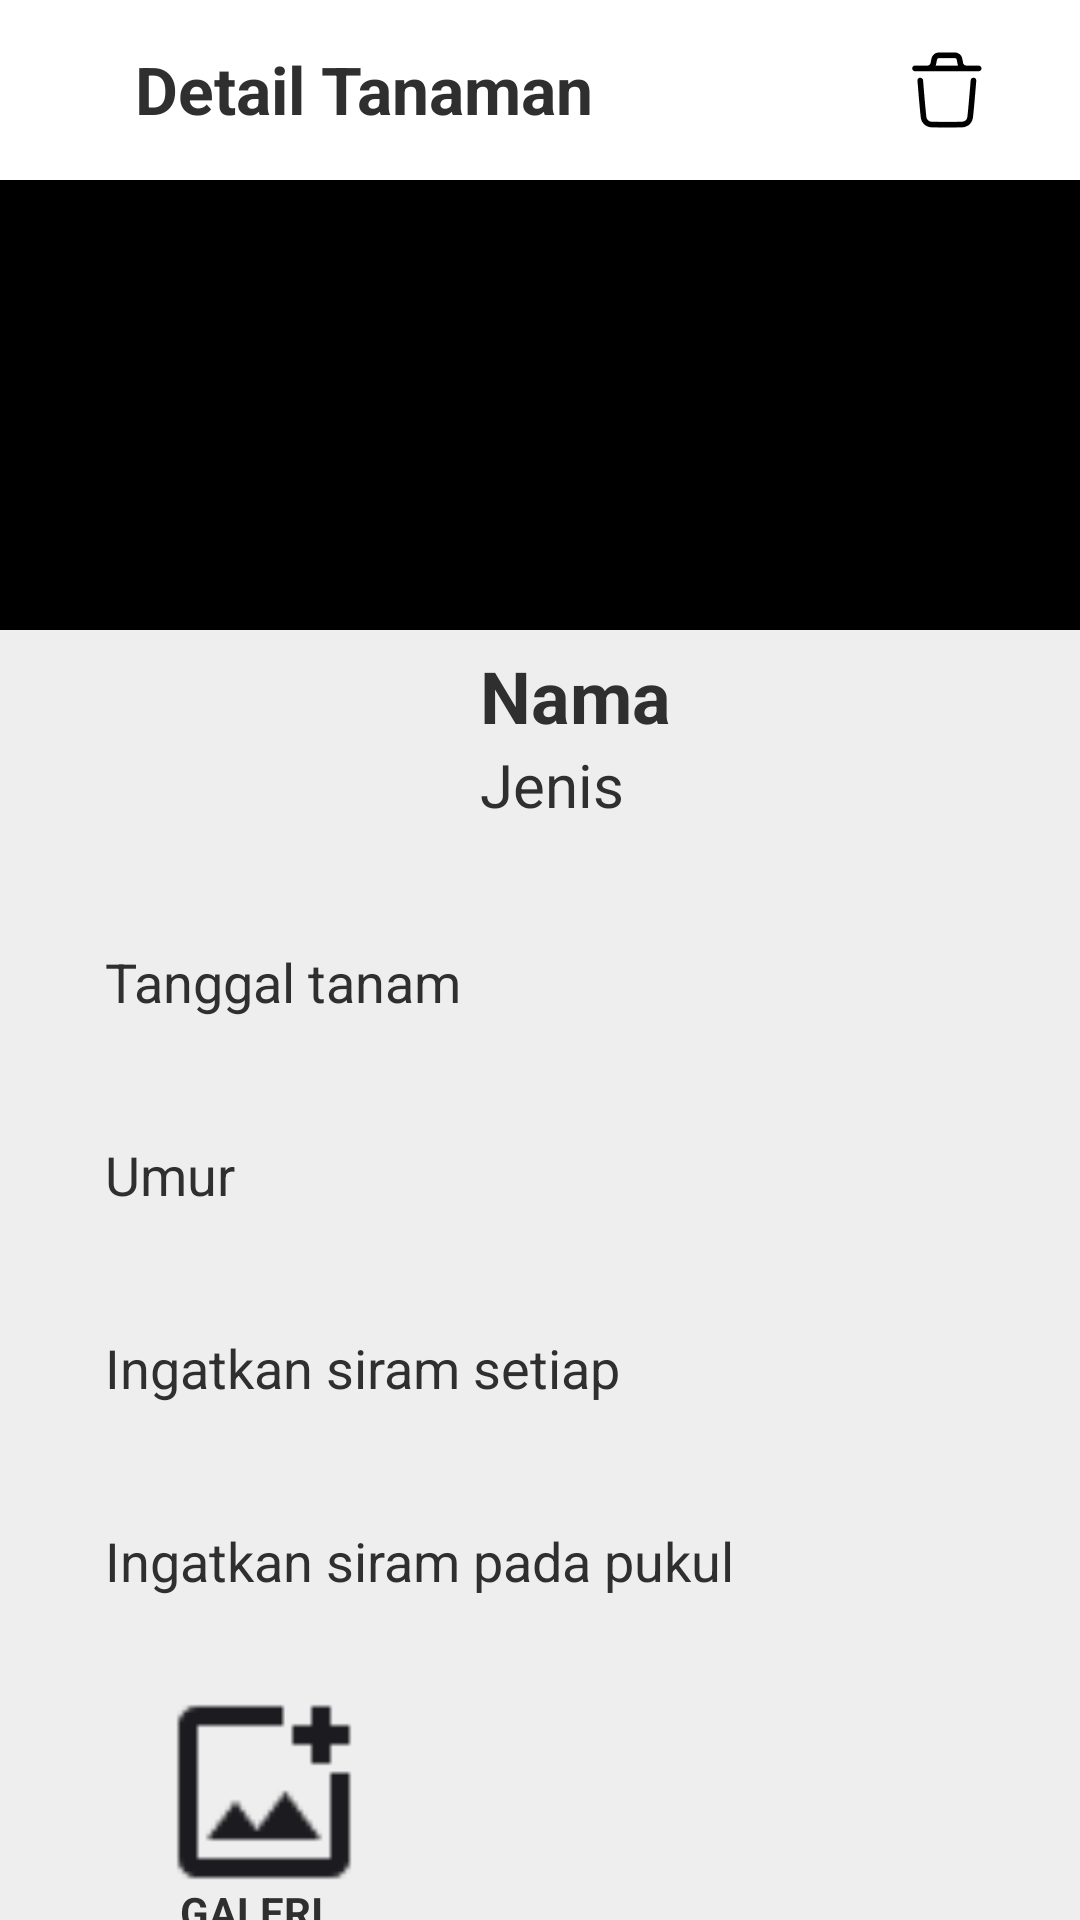

Named icons in this screenshot (1080*1920) and their centers, point (x, y):
delete: point (947, 90)
